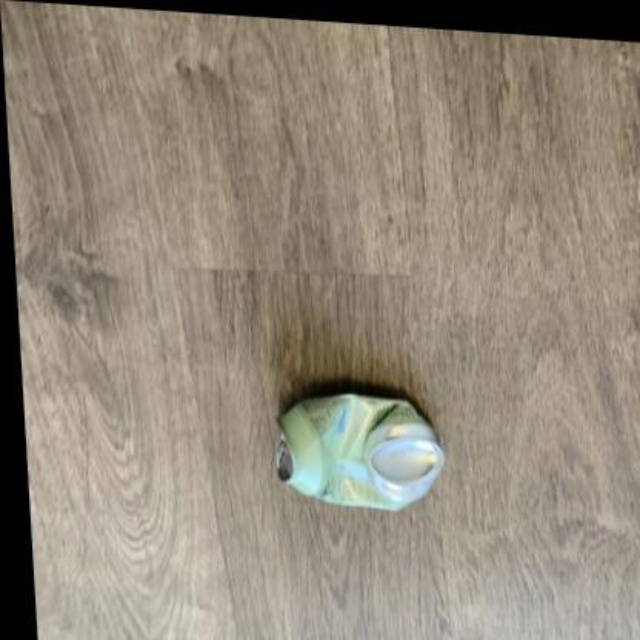trash: (277, 394, 442, 509)
